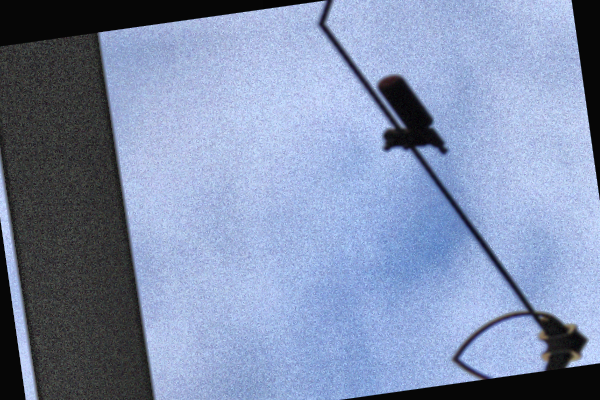damper_defect: (370, 70, 452, 159)
